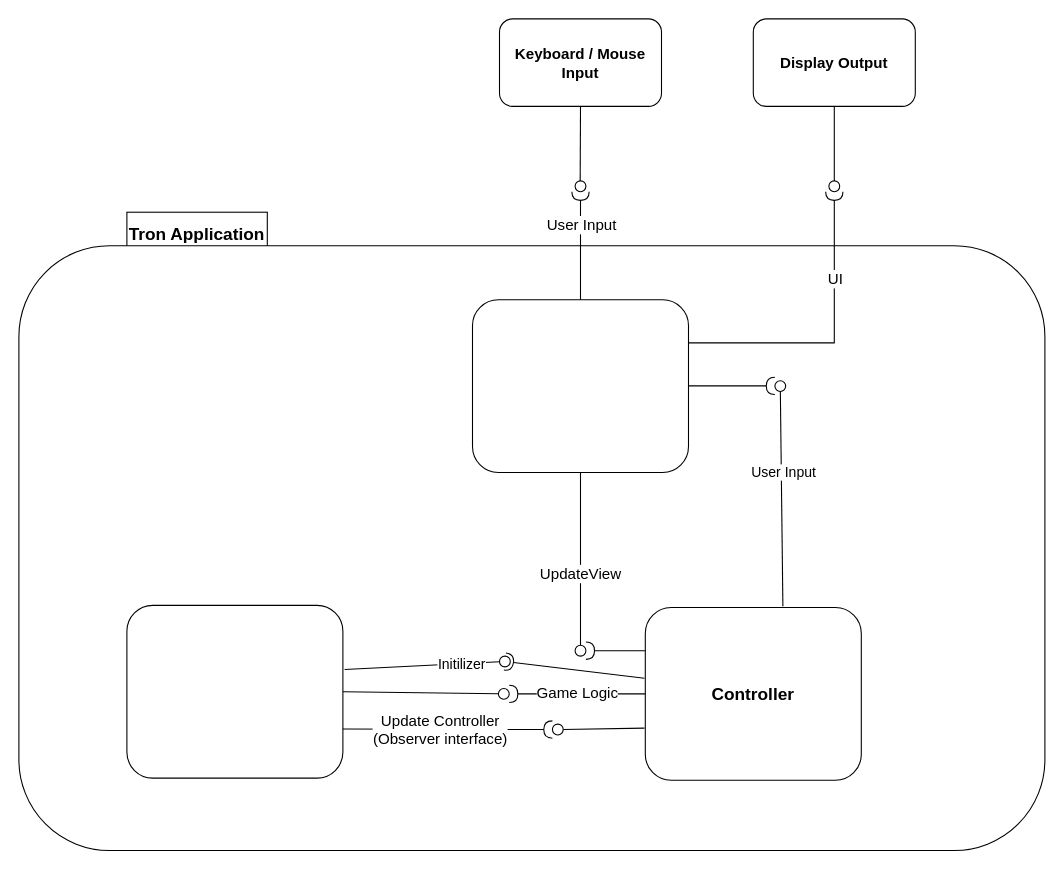
Some shapes in this 1064 by 869 pixel diagram are drawn without their labels. Here are the shapes that lost their labels. From the top down, the centre of each, then its label:
At (x=579, y=386): "View".
At (x=234, y=691): "Model".
